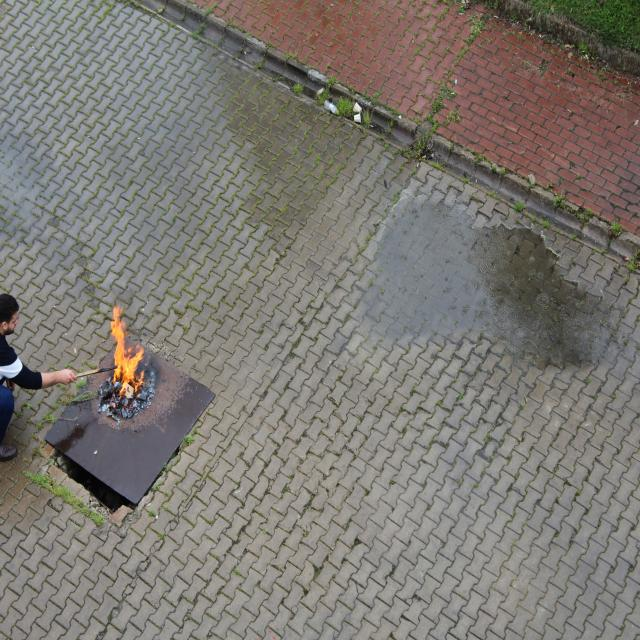fire: (107, 296, 141, 400)
